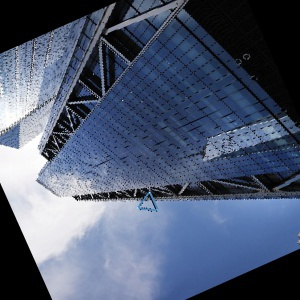triangle: (135, 190, 160, 214)
